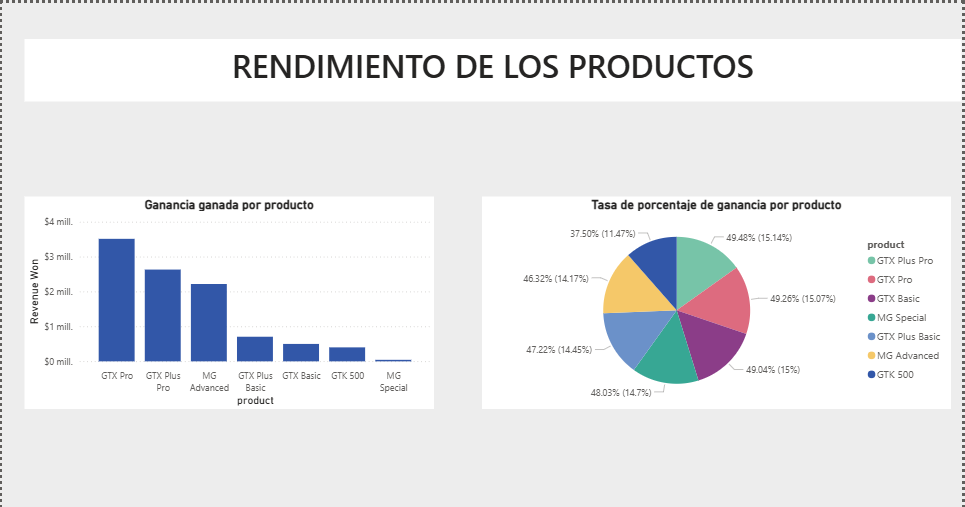

What the dashboard file says about the page in this screenshot:
{"tool":"powerbi","page":{"name":"Productos","canvas":[1280,720],"ordinal":1},"visuals":[{"type":"columnChart","title":"Ganancia ganada por producto","fields":{"Category":["Dim_products__2.product"],"Y":["Fact_sales_pipeline.Revenue Won"]},"box":[30.2,257,546.1,283.5],"z":0},{"type":"pieChart","title":"Tasa de porcentaje de ganancia por producto","fields":{"Category":["Dim_products__2.product"],"Y":["Fact_sales_pipeline.Win Rate"]},"box":[640.6,257,625.5,283.5],"z":1000},{"type":"textbox","box":[30.2,47.2,1249.1,83.2],"z":1001}]}

Visuals, with their boxes on the page's 1280x720 design canvas (x1, y1, x2, y2). These are canvas units, not pixel positions in the 965x507 screenshot, which may show the page scaled, cropped or inside an application window:
"Ganancia ganada por producto" columnChart: Rect(30, 257, 576, 540)
"Tasa de porcentaje de ganancia por producto" pieChart: Rect(641, 257, 1266, 540)
textbox: Rect(30, 47, 1279, 130)
